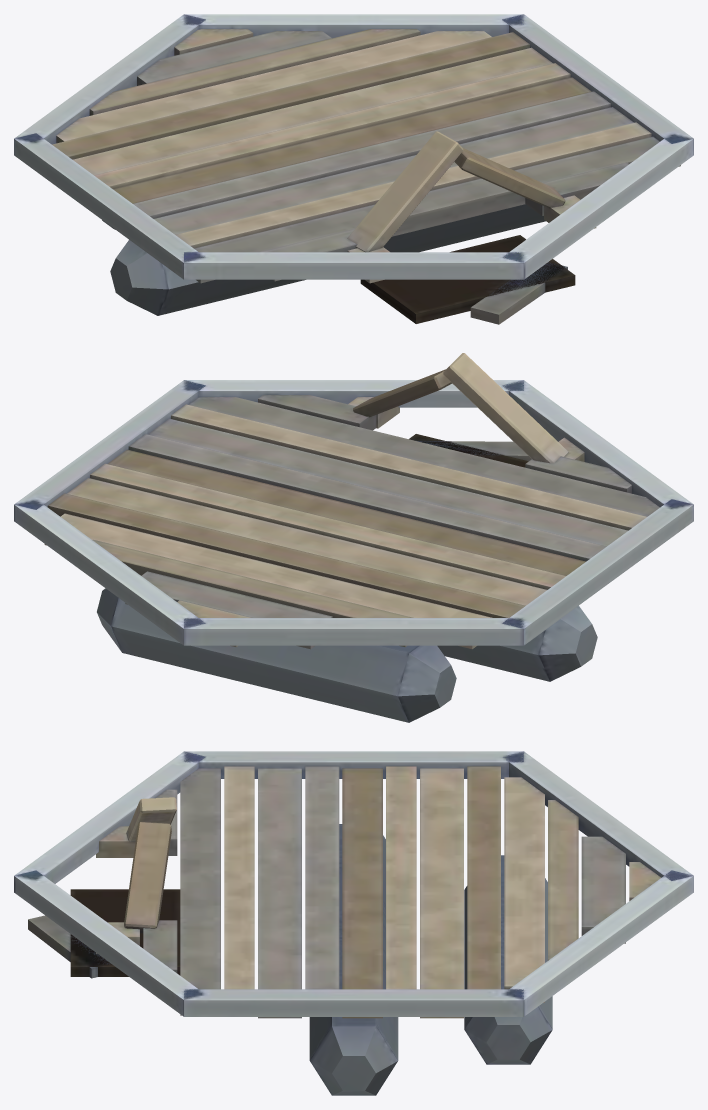
File: raft-damaged-age20-lite.glb
3 renders of one model, top to bottom at view 1: azimuth 30°, elevation 25°; view 2: azimuth 150°, elevation 25°; view 3: azimuth 270°, elevation 25°, orthographic.
Parts seen in each view (by area): view 1: raft-damaged-age20-lite; view 2: raft-damaged-age20-lite; view 3: raft-damaged-age20-lite.
Part boxes in pixels (left/top/right/bottom): raft-damaged-age20-lite: left=14, top=14, right=693, bottom=324; raft-damaged-age20-lite: left=14, top=353, right=693, bottom=722; raft-damaged-age20-lite: left=14, top=751, right=693, bottom=1095.
Bounding box in the file's own units: 1.6 × 0.5797 × 1.85.
1 material, 1 textured.
